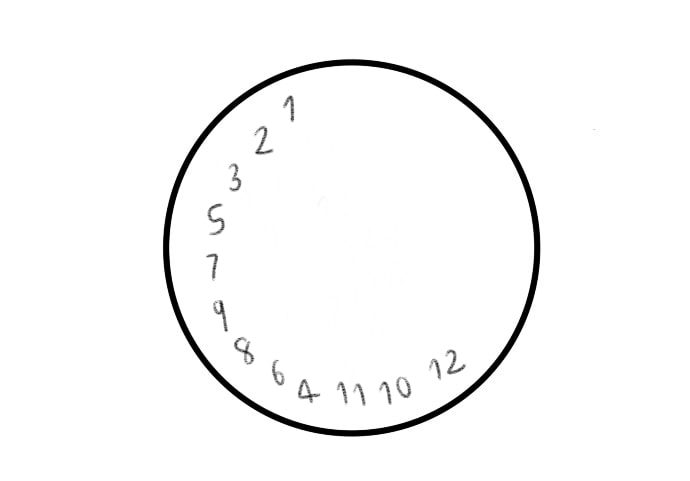eight: (232, 333, 255, 365)
eleven: (336, 378, 367, 409)
five: (206, 200, 226, 237)
four: (296, 376, 320, 405)
nine: (211, 296, 230, 333)
one: (278, 91, 297, 123)
seven: (205, 252, 219, 281)
six: (270, 359, 288, 388)
ten: (376, 373, 413, 406)
three: (227, 160, 243, 192)
twelve: (425, 348, 465, 381)
two: (252, 123, 271, 156)
